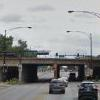Bridge: (5, 49, 91, 74)
